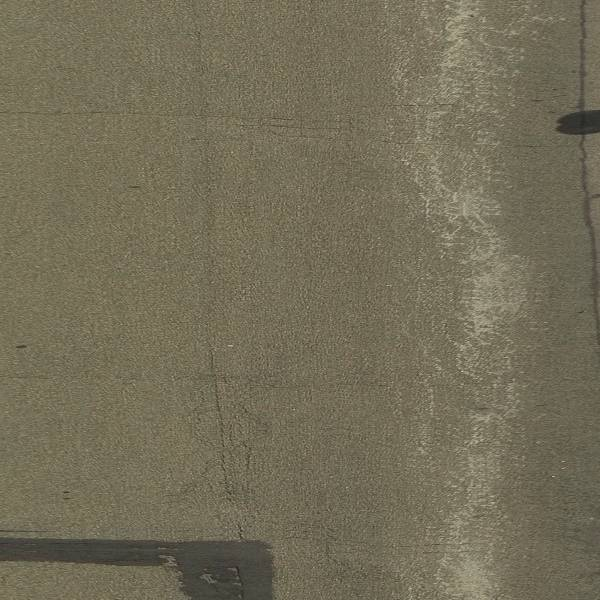road_damage: (200, 339, 268, 532), (195, 558, 250, 600)
